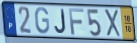2: (18, 6, 33, 35)
5: (86, 8, 103, 38)
F: (68, 8, 85, 36)
G: (34, 7, 51, 35)
J: (54, 8, 67, 35)
X: (103, 8, 122, 38)
